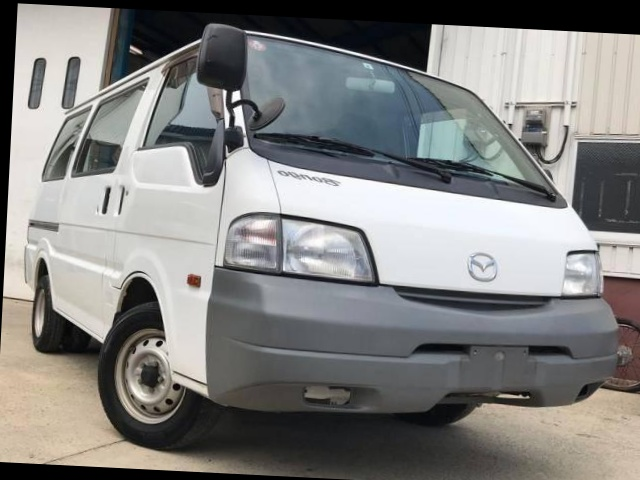van: (18, 19, 620, 465)
